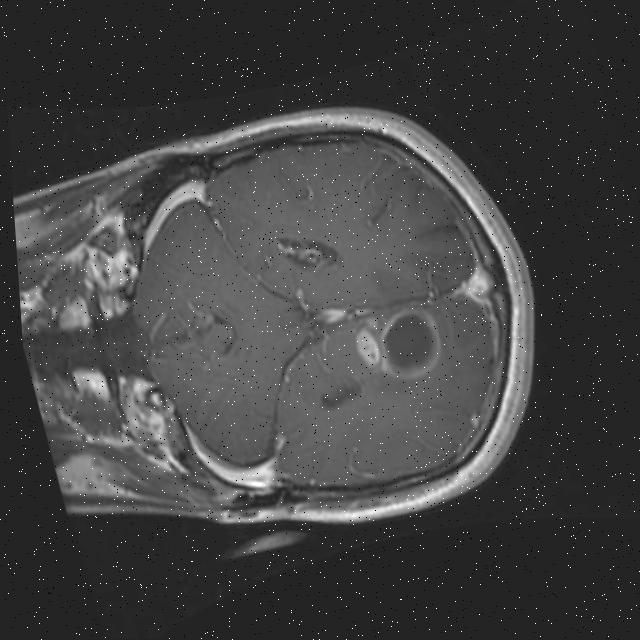Glioma: (369, 303, 450, 385), (351, 326, 382, 369)
